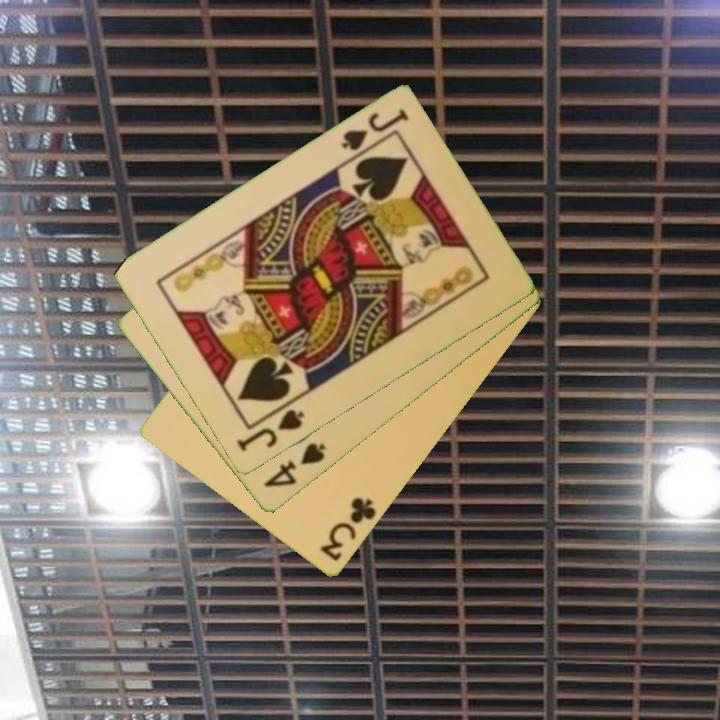3c: (316, 494, 380, 565)
4s: (260, 439, 329, 491)
Js: (337, 105, 412, 155), (233, 406, 307, 455)
